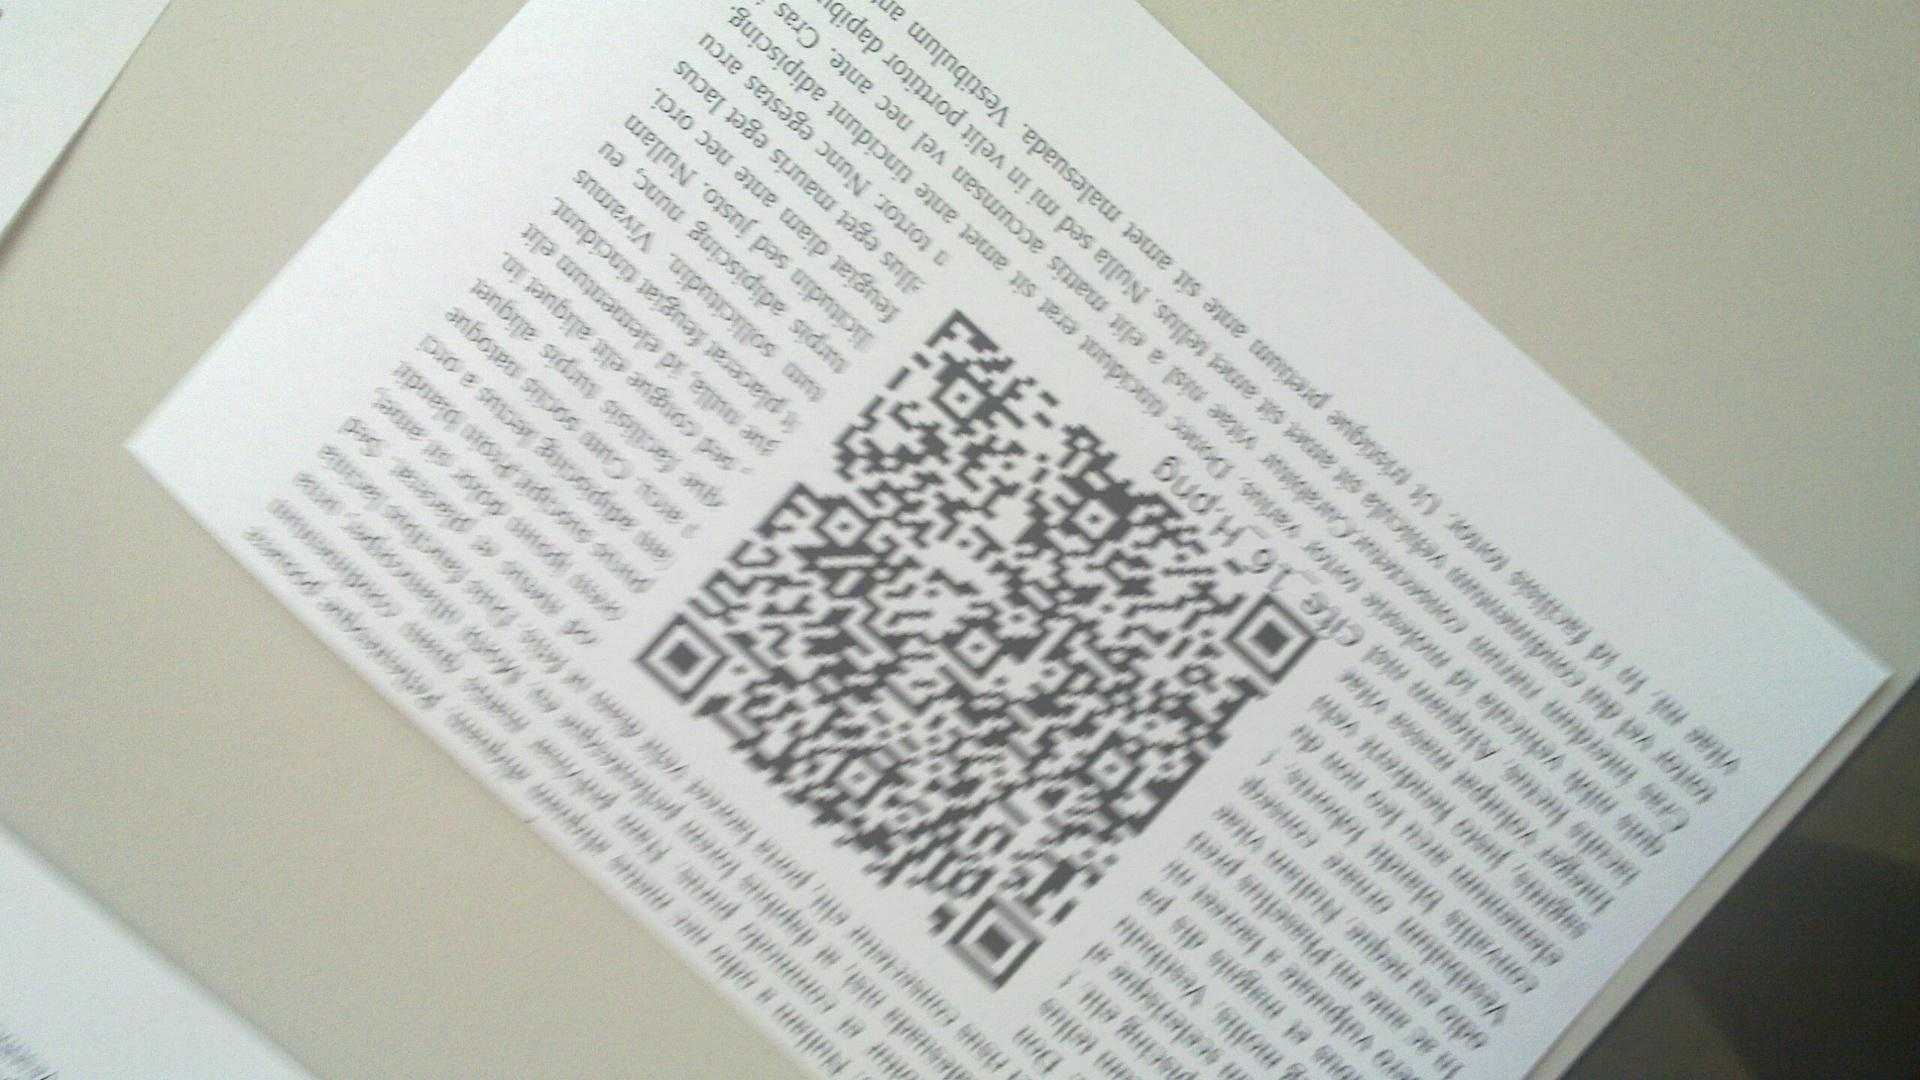Finder pattern: (942, 886, 1043, 992), (1221, 585, 1315, 688), (632, 613, 727, 702)
